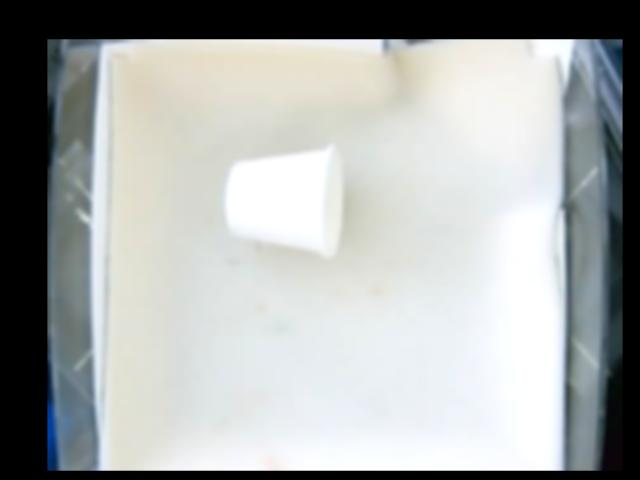Cup: (225, 145, 343, 256)
